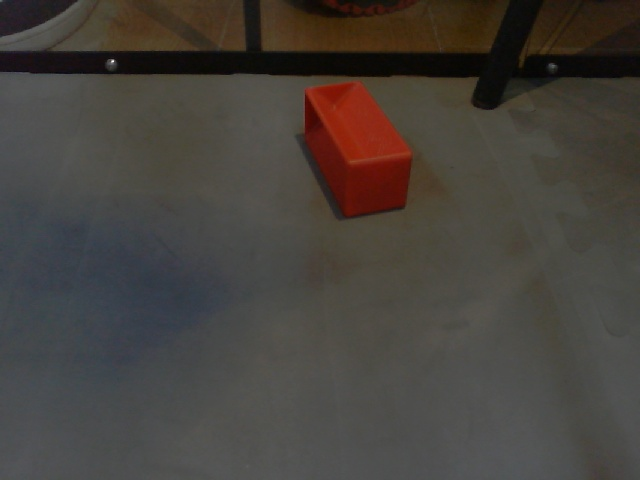RedSample: (301, 82, 414, 217)
